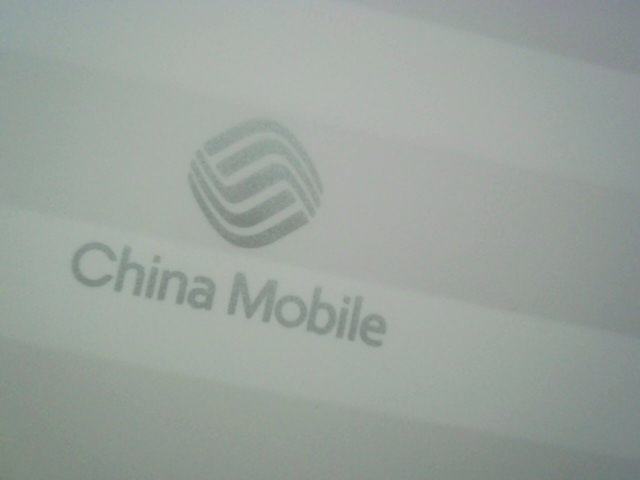AA_ChinaMobile: (52, 112, 419, 357)
